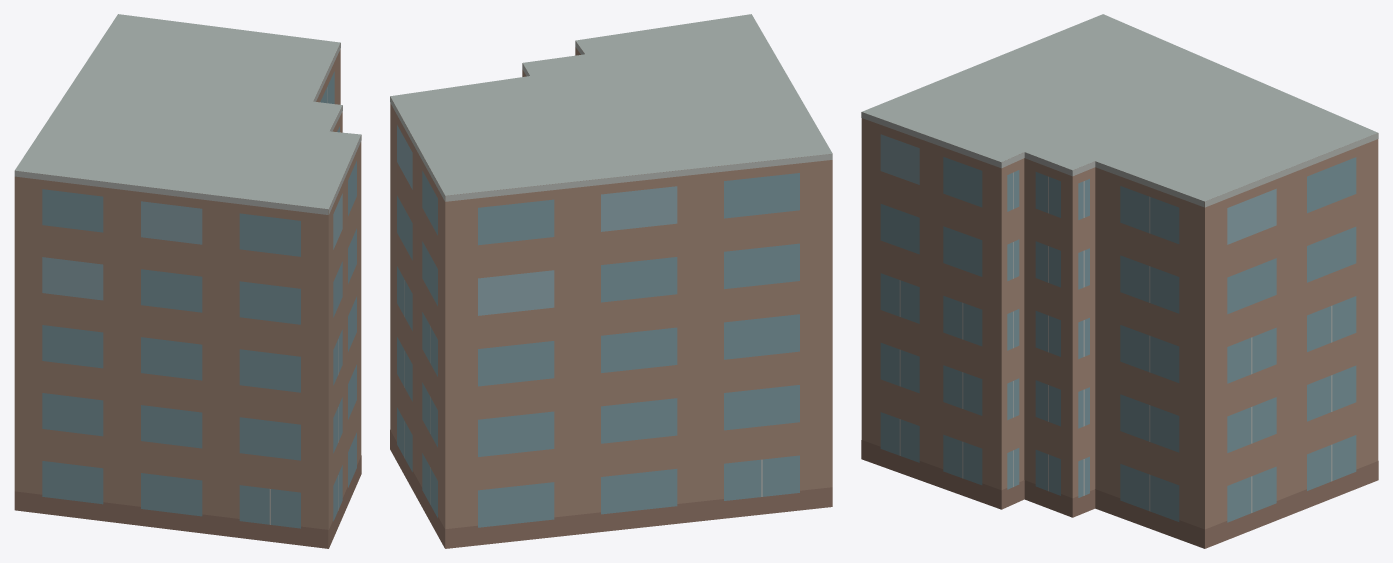
File: survey-upis-32949505.glb
3 views of the same model, side by side, from view 1: azimuth 30°, elevation 25°; view 2: azimuth 150°, elevation 25°; view 3: azimuth 270°, elevation 25° (orthographic). The views are drawn at different scales.
Parts seen in each view (by area): view 1: survey-upis-32949505.tmp; view 2: survey-upis-32949505.tmp; view 3: survey-upis-32949505.tmp.
Part boxes in pixels (x1,y1,x2,y2): survey-upis-32949505.tmp: (14,14,361,548); survey-upis-32949505.tmp: (390,14,832,548); survey-upis-32949505.tmp: (861,14,1378,548).
Bounding box in the file's own units: 16.28 × 14.05 × 18.96.
